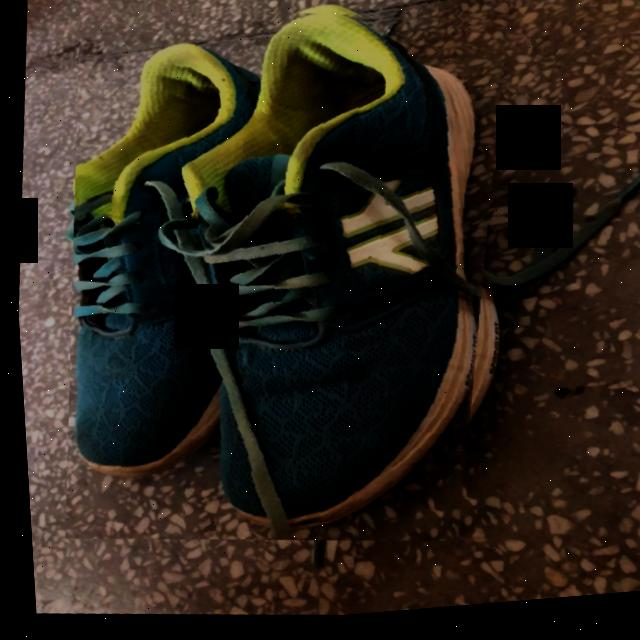shoe: (70, 17, 476, 544)
